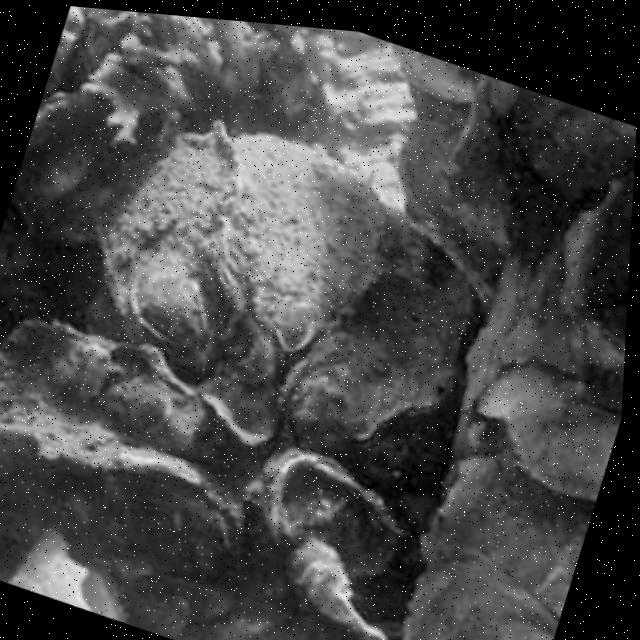Oyster-Indeterminate: (282, 209, 473, 453), (0, 320, 241, 483), (99, 128, 238, 383), (225, 132, 384, 350), (419, 453, 590, 617), (480, 360, 622, 505), (404, 561, 559, 640)
